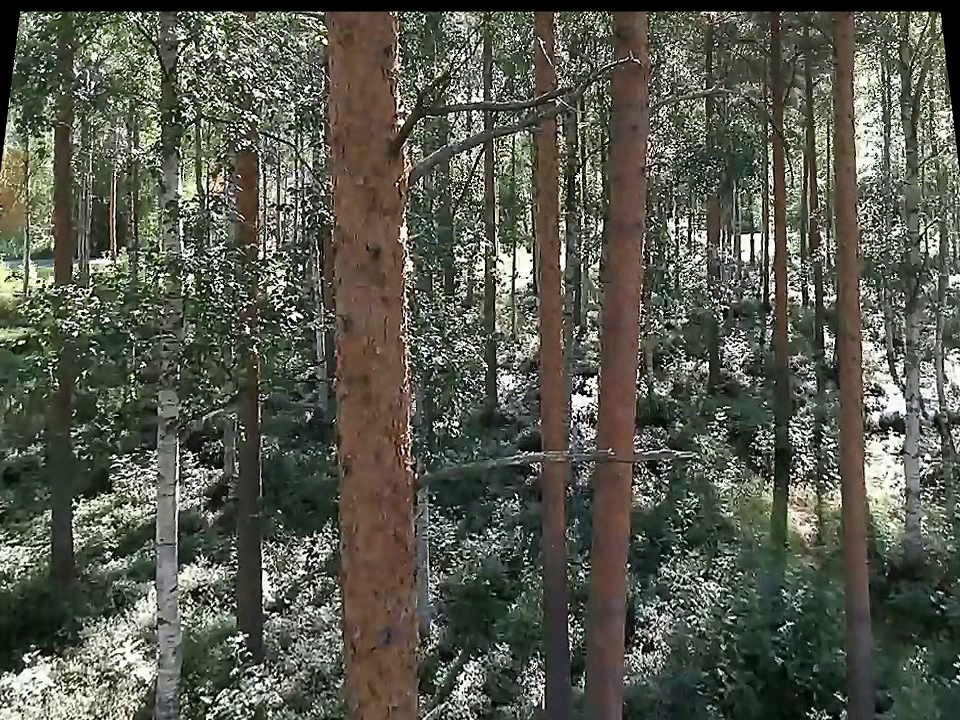branch: (397, 39, 641, 148), (426, 429, 691, 488)
trunk: (312, 35, 432, 704), (568, 13, 670, 712), (823, 12, 884, 713), (135, 27, 188, 715), (524, 25, 577, 707), (219, 100, 280, 663), (36, 50, 90, 571), (890, 43, 933, 550), (756, 16, 798, 474), (690, 38, 734, 398), (475, 22, 506, 431)
